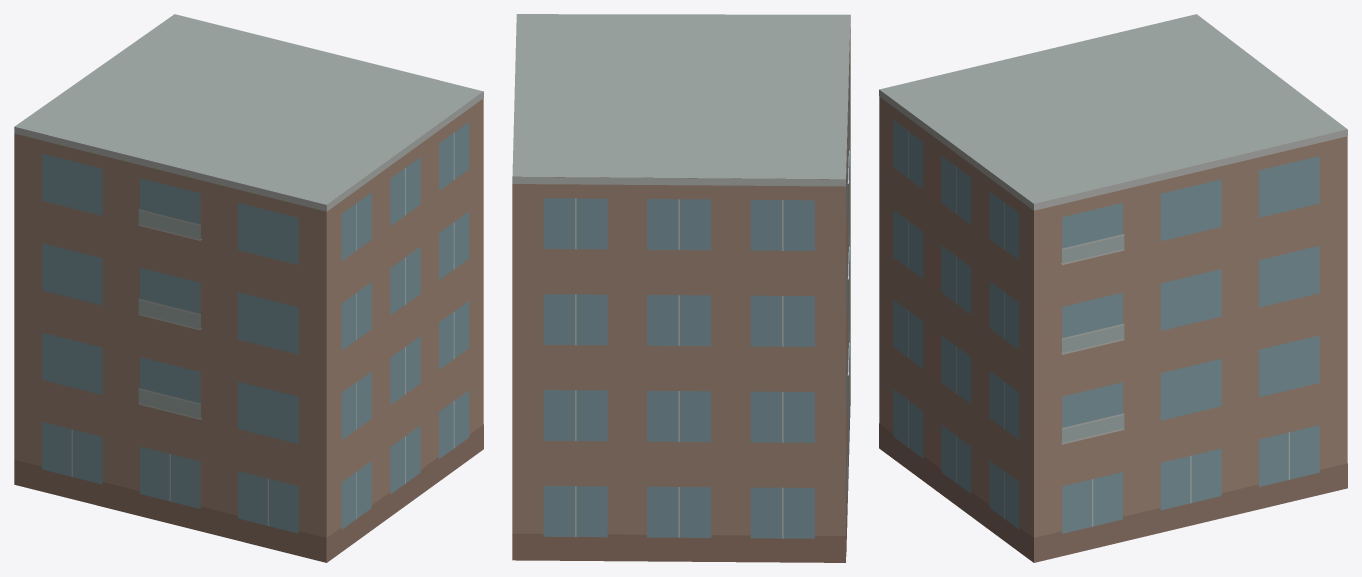
Rendered from survey-upis-33032889.glb.
3 views of the same model, side by side, from view 1: azimuth 30°, elevation 25°; view 2: azimuth 150°, elevation 25°; view 3: azimuth 270°, elevation 25° (orthographic). The views are drawn at different scales.
Parts seen in each view (by area): view 1: survey-upis-33032889.tmp; view 2: survey-upis-33032889.tmp; view 3: survey-upis-33032889.tmp.
Part boxes in pixels (bbox=[...]): survey-upis-33032889.tmp: bbox=[14, 14, 483, 562]; survey-upis-33032889.tmp: bbox=[512, 14, 850, 562]; survey-upis-33032889.tmp: bbox=[879, 14, 1347, 562].
Bounding box in the file's own units: 14.66 × 12.9 × 15.28.
